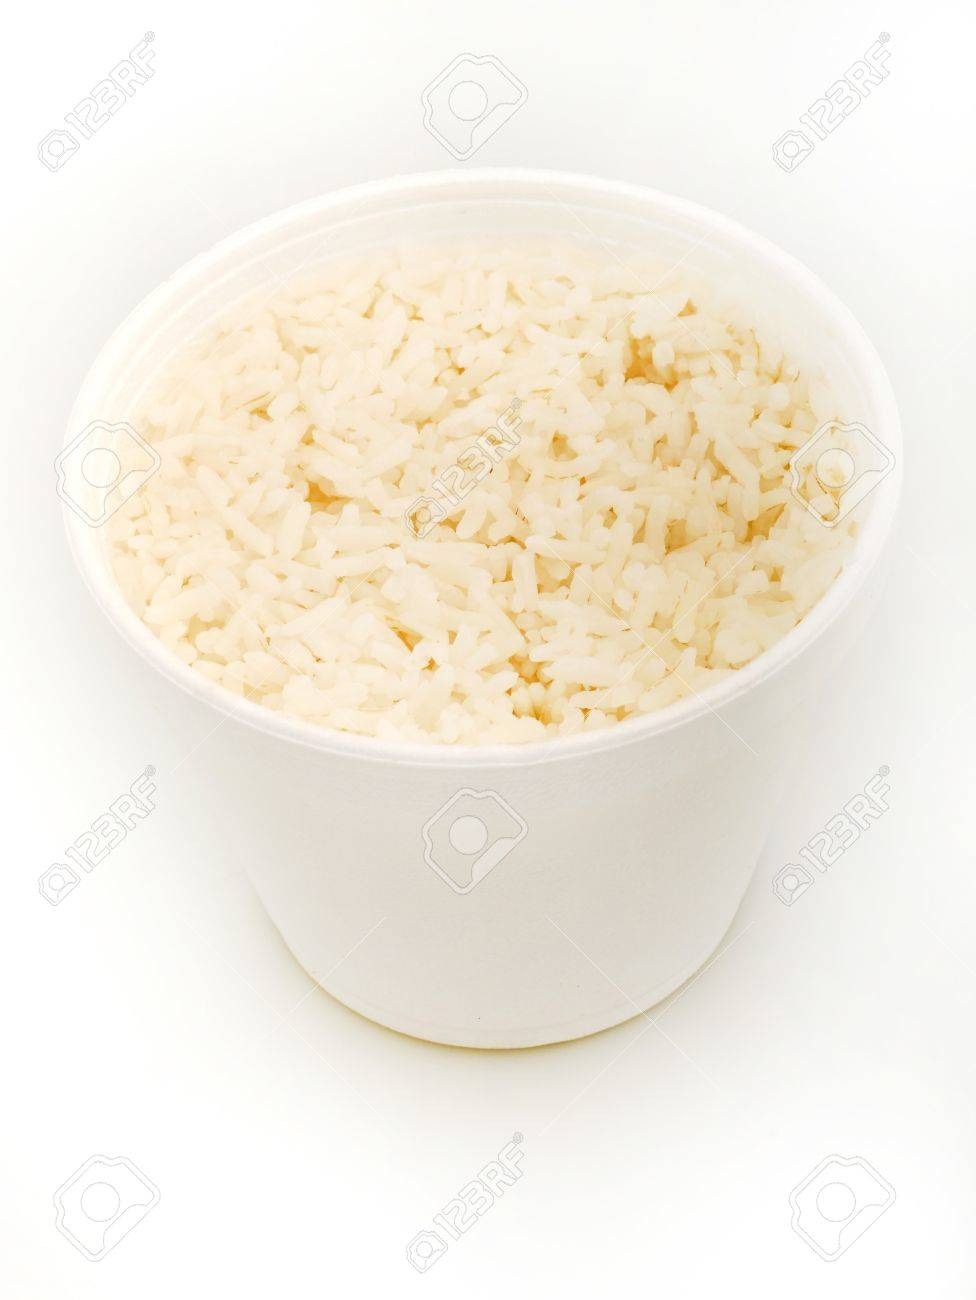plain rice: (197, 288, 737, 676)
